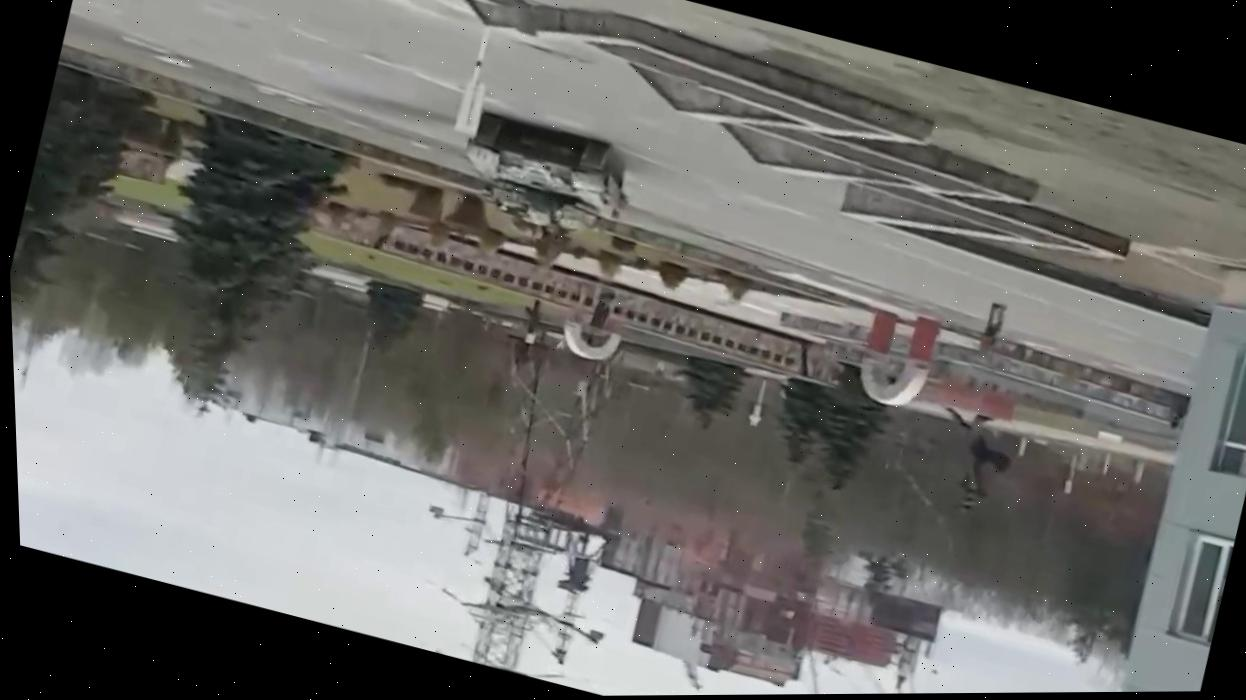person: (974, 299, 1010, 355)
tank: (447, 102, 646, 242)
